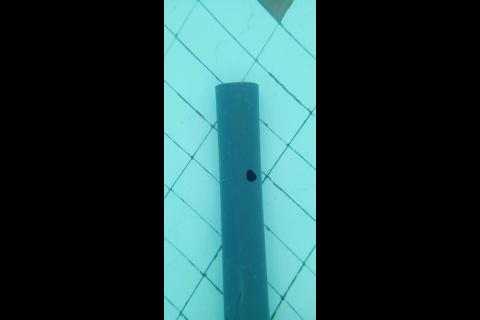kebocoran: (244, 166, 257, 184)
keretakan: (233, 289, 242, 320)
